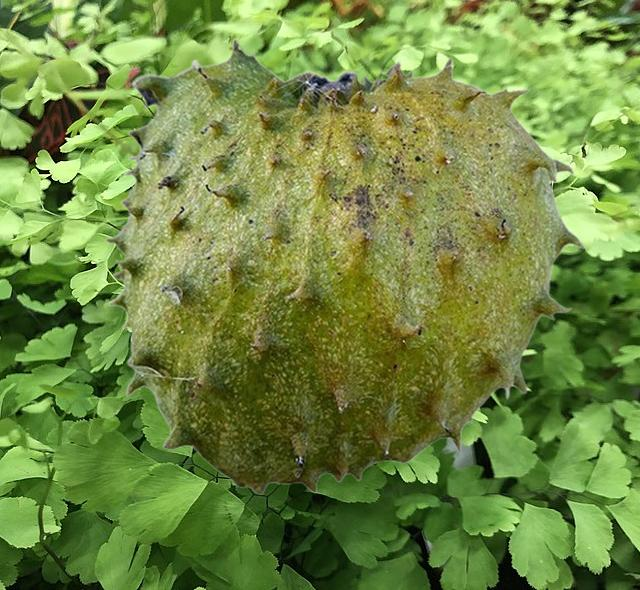guyabano: (104, 36, 584, 494)
